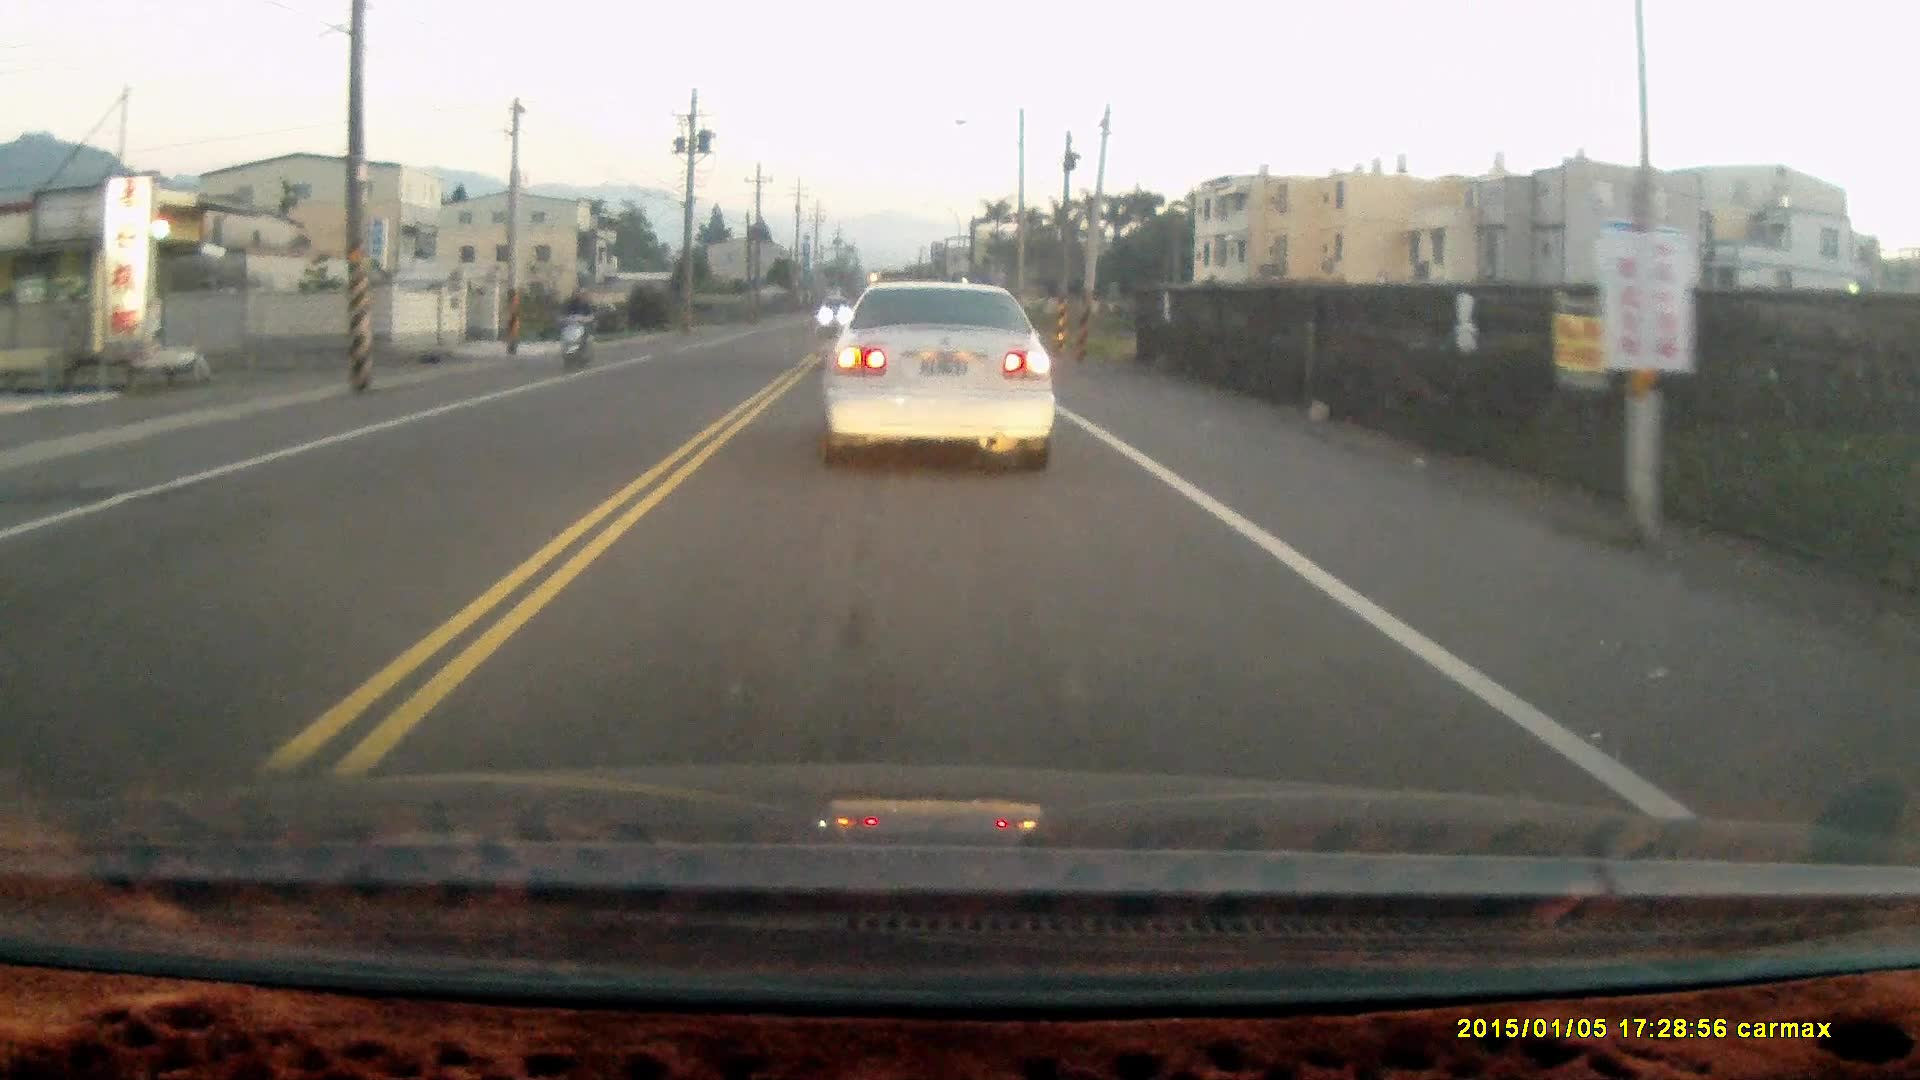rider: (556, 282, 595, 374)
vehicle: (821, 271, 1065, 467)
